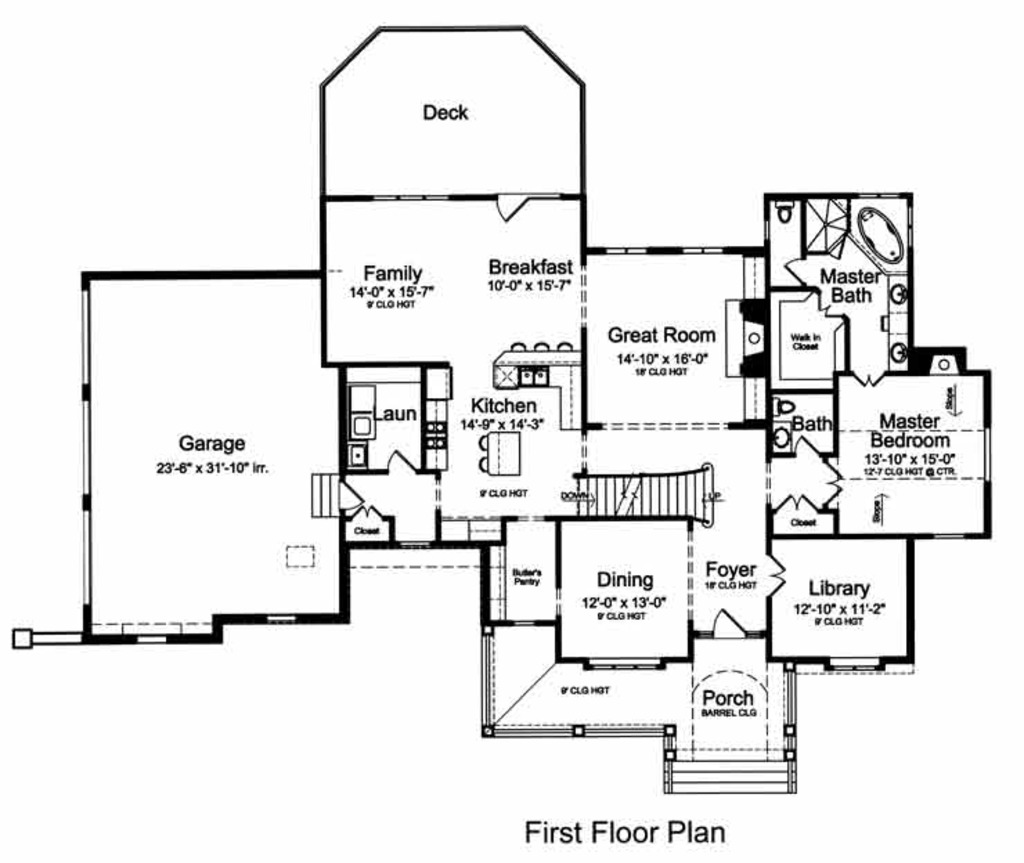door: (490, 186, 529, 224), (708, 605, 748, 640), (776, 492, 825, 514)
kitchen_bar: (493, 341, 588, 437), (477, 430, 526, 479)
large_sink: (767, 198, 797, 225)
small_sink: (886, 280, 919, 370), (769, 418, 799, 454)
stairs: (558, 465, 718, 526), (662, 736, 798, 806), (305, 469, 345, 521)
tub: (845, 196, 910, 278)
windows: (823, 650, 883, 677)
